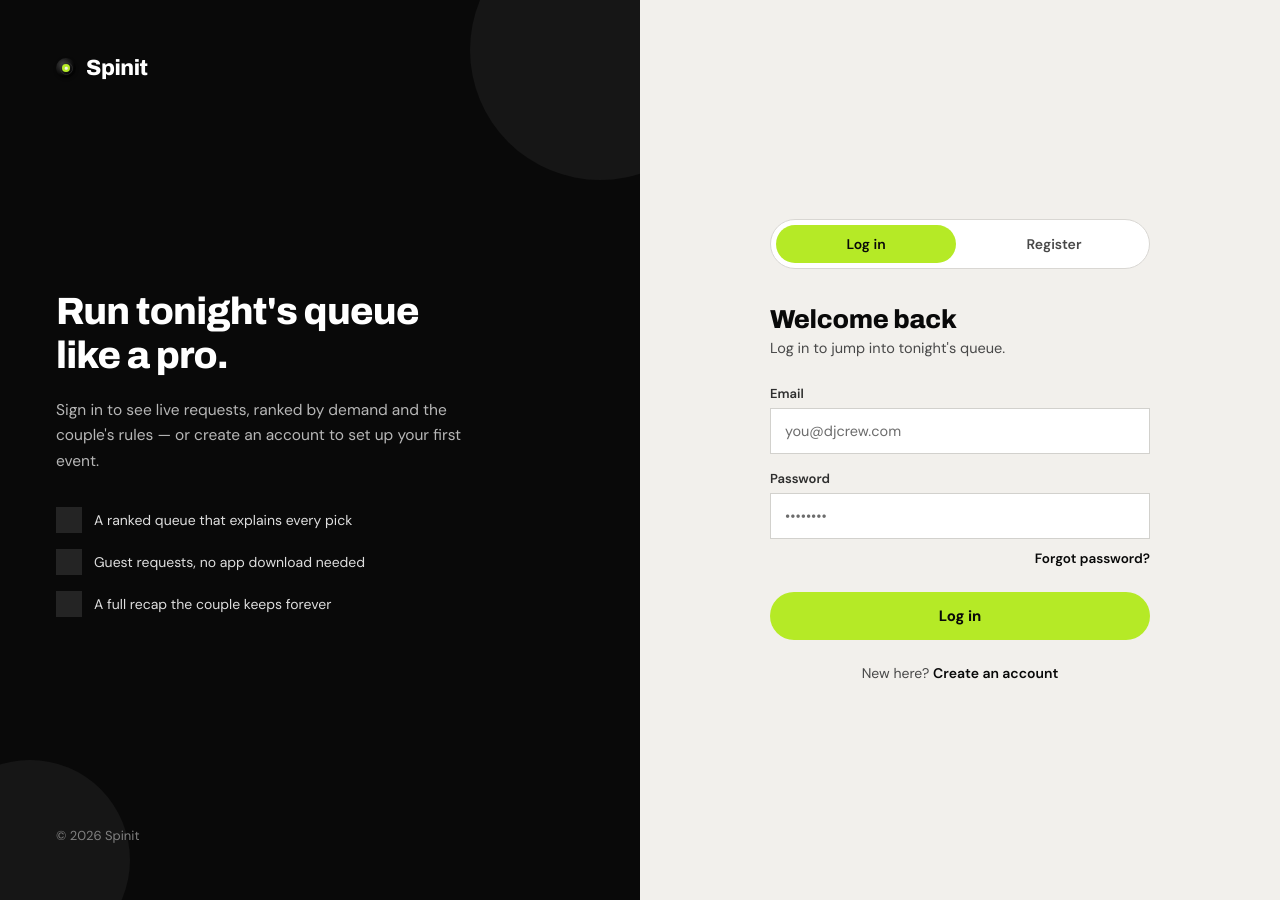
Test: AuthScreen › reveals the register-only fields when the Register tab is clicked
This screenshot has width=1280, height=900.
Step 1. Click the tab "Register" → coordinates (1054, 244), box left=964, top=224, right=1144, bottom=262
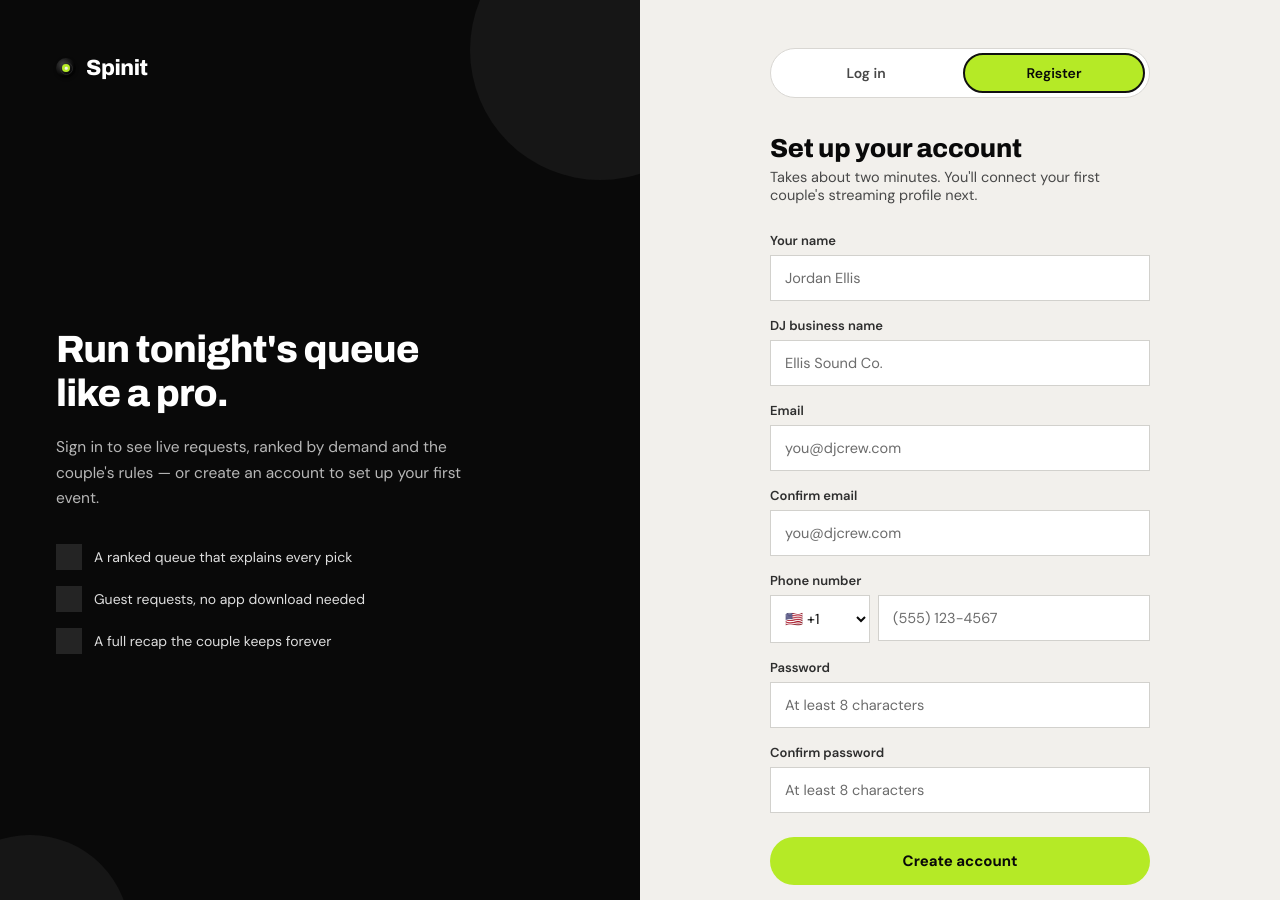
Result: the field labelled "Your name" is shown at left=770, top=255, right=1150, bottom=301
Result: the field labelled "DJ business name" is shown at left=770, top=340, right=1150, bottom=386
Result: the password field labelled "Confirm password" is shown at left=770, top=767, right=1150, bottom=813
